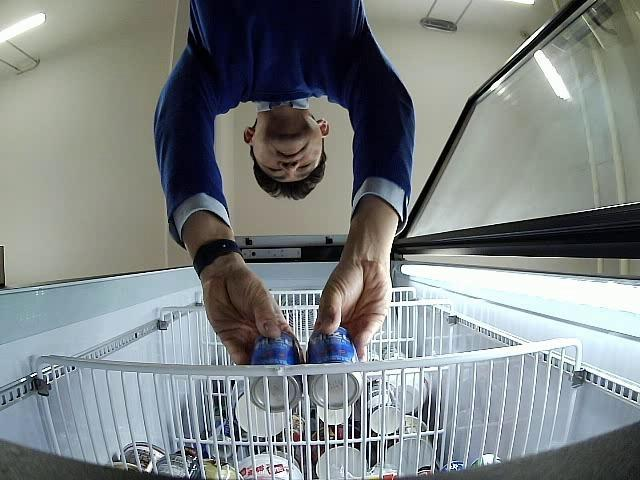15_letsbe: (306, 327, 363, 410), (250, 331, 302, 414)
